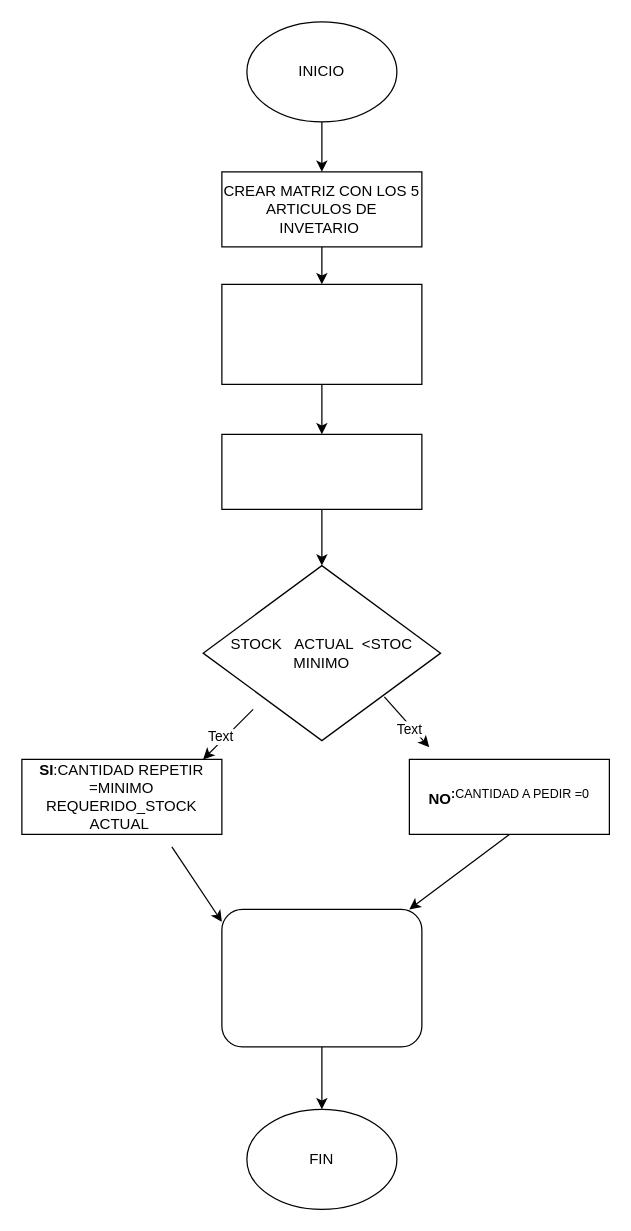
This 631x1231 diagram has some shape labels left out. The shapes that lost their labels are listed below. From the top down, each one's box as (x1, y1, x2, y2) in pixels, then its label:
(221, 283, 422, 384): DEFINIR LA FUNCION PARA DETERMINAR LA CANTIDAD EXCATA A PEDIR
(221, 433, 422, 509): RECORRER LOS ATICULOS DE LA MATRIZ CON UN CICLO
(221, 908, 422, 1047): IMPRIMIR LISTA DE PEDIDOS CON NOMBRE DELA RTICULO Y CANTIDAD EXACTA
